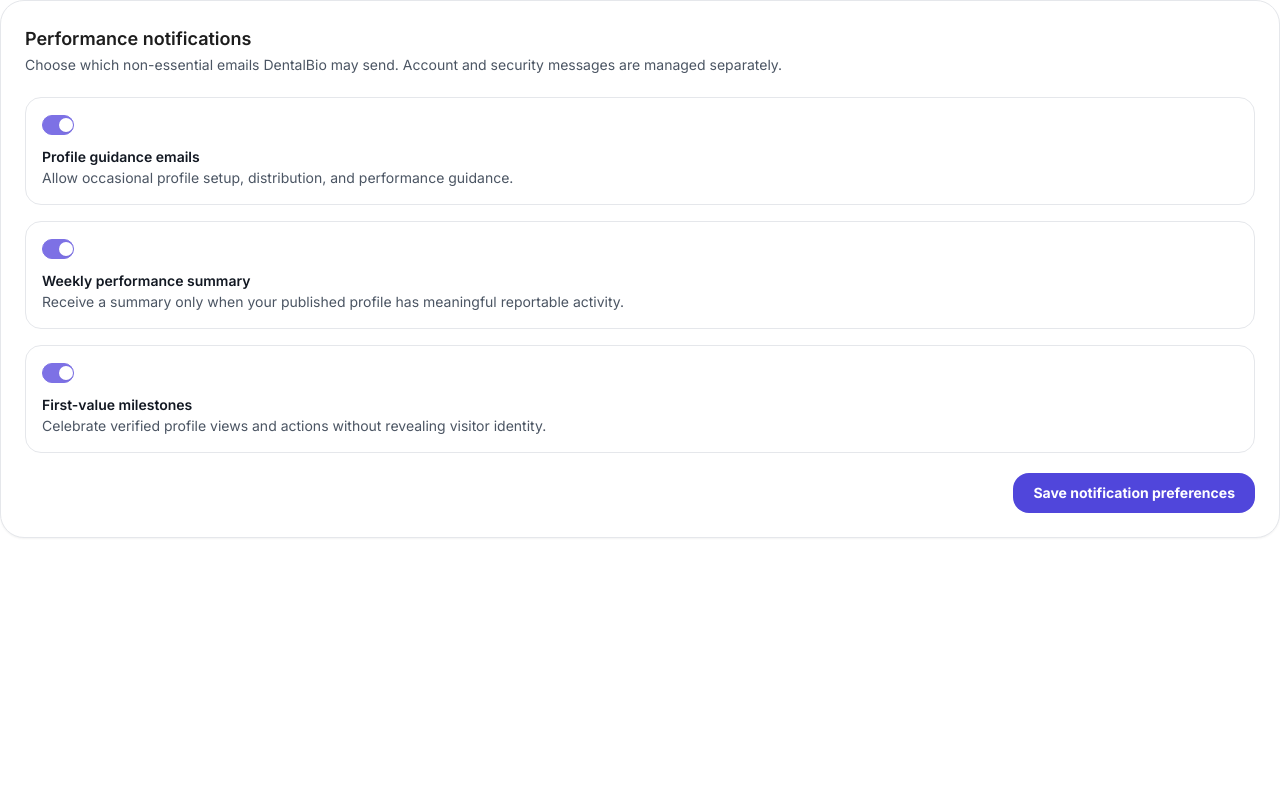
Test case: LifecyclePreferencesForm › preserves choices and shows a bounded conflict error
Click the switch named "Weekly performance summary".
click(58, 249)  # box [42, 239, 74, 259]
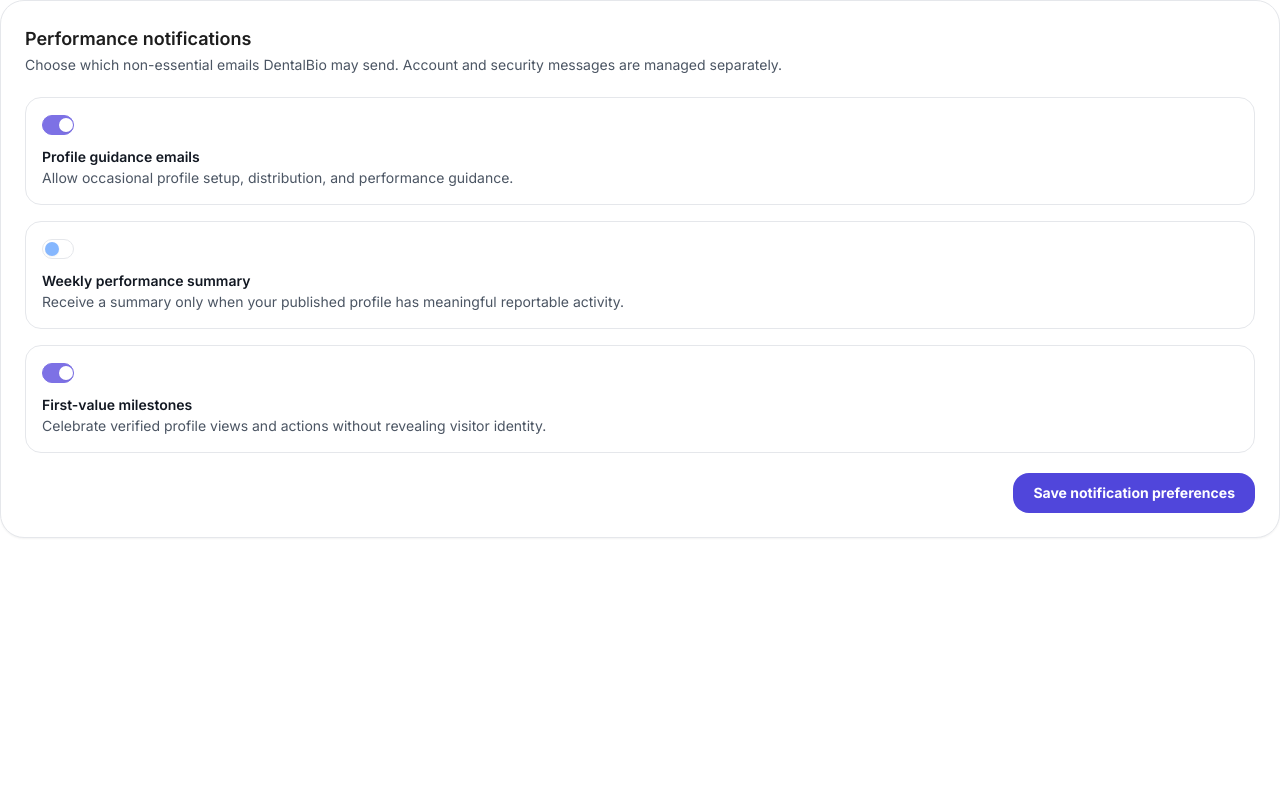
Click the button "Save notification preferences".
click(1134, 493)  # box [1013, 473, 1255, 513]
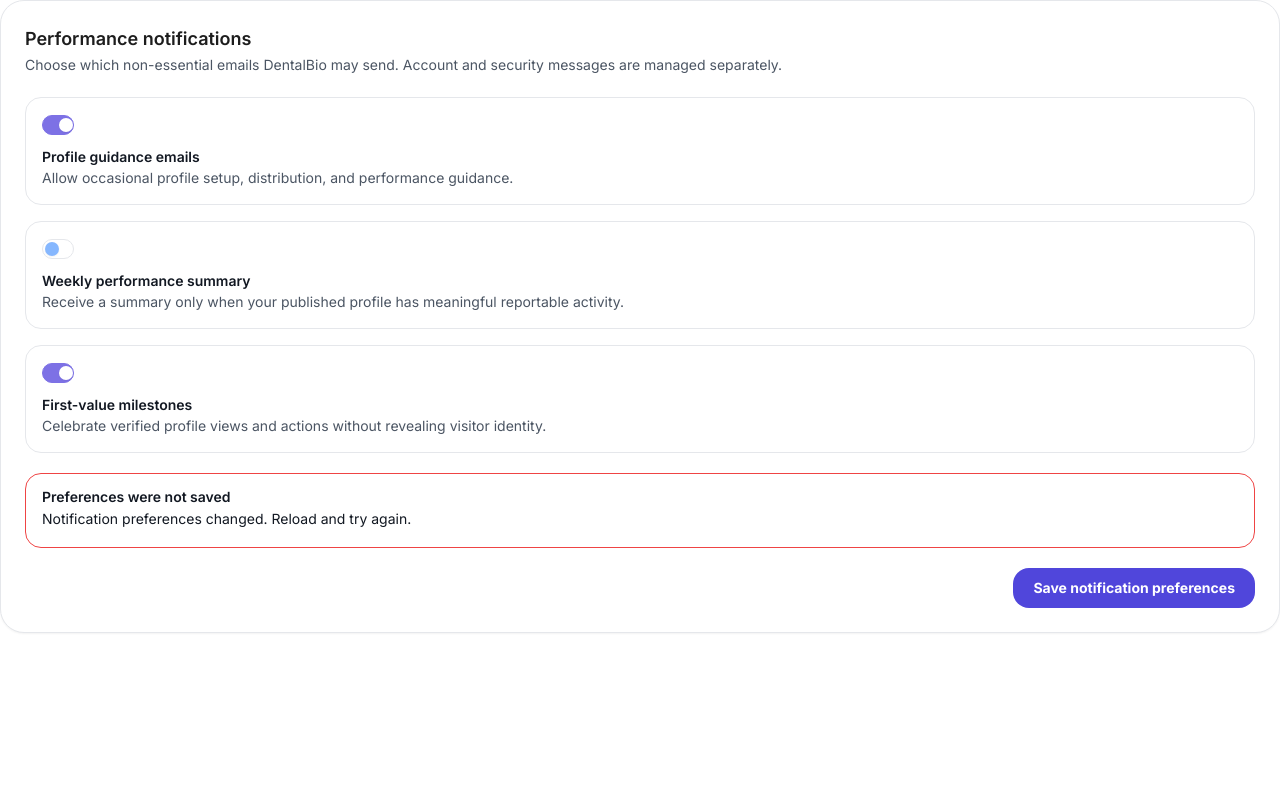
Now the text "Notification preferences changed. Reload and try again." is shown, box [42, 510, 411, 527]
